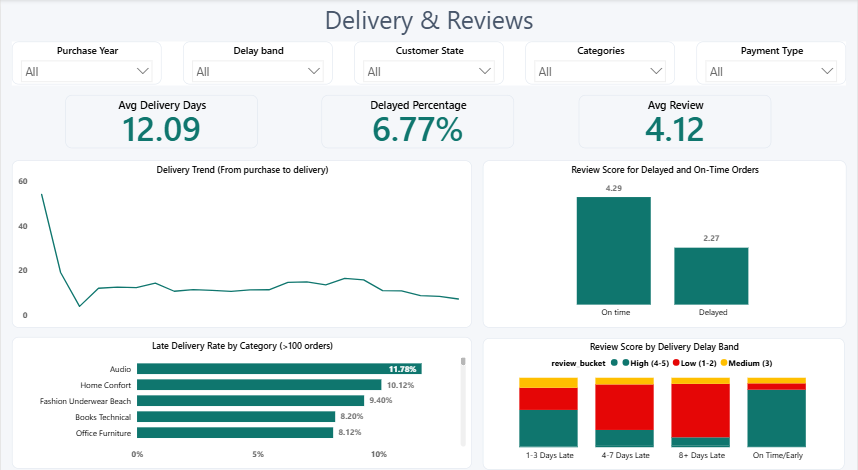

What the dashboard file says about the page in this screenshot:
{"tool":"powerbi","page":{"name":"Delivery & Reviews","canvas":[1280,720],"ordinal":2},"visuals":[{"type":"slicer","title":"Purchase Year","fields":{"Values":["Sheet1.order_purchase_year"]},"box":[16,64,224,64],"z":0,"group":"g1"},{"type":"card","title":"Avg Delivery Days","fields":{"Values":["Sheet1.Avg Delivery Days"]},"box":[96,144,288,80],"z":0},{"type":"card","title":"Delayed Percentage","fields":{"Values":["Sheet1.Late_delivery_rate"]},"box":[480,144,288,80],"z":1000},{"type":"textbox","box":[16,0,1248,64],"z":2000},{"type":"slicer","title":"Customer State","fields":{"Values":["Sheet1.customer_state"]},"box":[528,64,224,64],"z":3000,"group":"g1"},{"type":"card","title":"Avg Review","fields":{"Values":["Sheet1.Avg Review"]},"box":[864,144,288,80],"z":3000},{"type":"slicer","title":"Categories","fields":{"Values":["Sheet1.main_category"]},"box":[784,64,224,64],"z":4000,"group":"g1"},{"type":"lineChart","title":"Delivery Trend (From purchase to delivery)","fields":{"Y":["Avg(Sheet1.delivery_days)"],"Category":["Sheet1.order_purchase_timestamp.Variation.Date Hierarchy.Year","Sheet1.order_purchase_timestamp.Variation.Date Hierarchy.Month"]},"box":[16,240.6,688,250.2],"z":4000},{"type":"slicer","title":"Payment Type","fields":{"Values":["Sheet1.main_payment_type"]},"box":[1040,64,224,64],"z":5000,"group":"g1"},{"type":"clusteredColumnChart","title":"Review Score for Delayed and On-Time Orders","fields":{"Category":["Sheet1.Delivery_status"],"Y":["Avg(Sheet1.review_score)"]},"box":[720.1,240.6,543.7,250.2],"z":5000},{"type":"clusteredBarChart","title":"Late Delivery Rate by Category (>100 orders)","fields":{"Category":["Sheet1.main_category"],"Y":["Sheet1.Late_delivery_rate"]},"box":[16.3,505.4,688.1,197.3],"z":6000},{"type":"group","id":"g1","title":"Group 1","box":[16,64,1248,64],"z":7000},{"type":"slicer","title":"Delay band","fields":{"Values":["Sheet1.delay_band"]},"box":[272,64,224,64],"z":7000,"group":"g1"},{"type":"hundredPercentStackedColumnChart","title":"Review Score by Delivery Delay Band","fields":{"Category":["Master_ecommerce.delay_band"],"Y":["CountNonNull(Master_ecommerce.order_id)"],"Series":["Master_ecommerce.review_bucket"]},"box":[720.7,507.1,541.3,197.3],"z":8000}]}

Visuals, with their boxes in screenshot pixels (x1, y1, x2, y2), scaled from the page's 1280x720 canvas onto the 858x470 screenshot:
"Purchase Year" slicer: [11, 42, 161, 84]
"Avg Delivery Days" card: [64, 94, 257, 146]
"Delayed Percentage" card: [322, 94, 515, 146]
textbox: [11, 0, 847, 42]
"Customer State" slicer: [354, 42, 504, 84]
"Avg Review" card: [579, 94, 772, 146]
"Categories" slicer: [526, 42, 676, 84]
"Delivery Trend (From purchase to delivery)" lineChart: [11, 157, 472, 320]
"Payment Type" slicer: [697, 42, 847, 84]
"Review Score for Delayed and On-Time Orders" clusteredColumnChart: [483, 157, 847, 320]
"Late Delivery Rate by Category (>100 orders)" clusteredBarChart: [11, 330, 472, 459]
"Group 1" group: [11, 42, 847, 84]
"Delay band" slicer: [182, 42, 332, 84]
"Review Score by Delivery Delay Band" hundredPercentStackedColumnChart: [483, 331, 846, 460]
